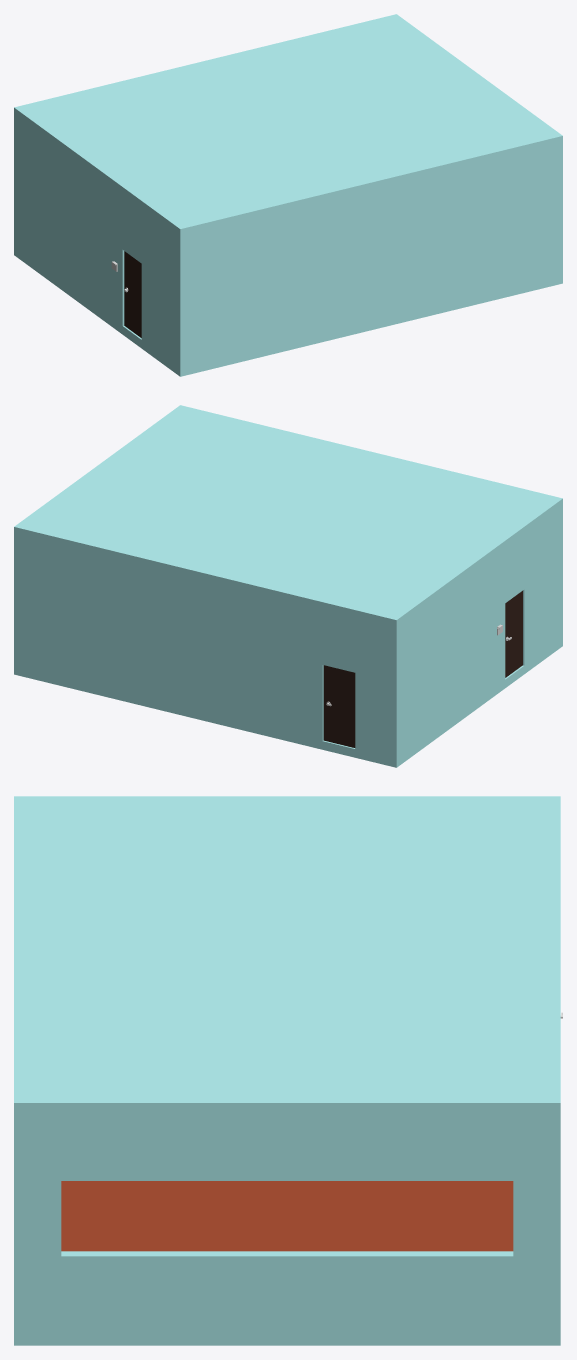
The model's file is room.FBX.
3 views of the same model, one above another, from view 1: azimuth 30°, elevation 25°; view 2: azimuth 150°, elevation 25°; view 3: azimuth 270°, elevation 25° (orthographic). The views are drawn at different scales.
Parts seen in each view (by area): view 1: Box001; view 2: Box001; view 3: Box001.
Boxes of the visible parts, x1=… form: Box001: x1=14, y1=14, x2=562, y2=376; Box001: x1=14, y1=405, x2=562, y2=767; Box001: x1=14, y1=796, x2=560, y2=1345.
Size of the model in its own units: 252 by 92.19 by 189.
